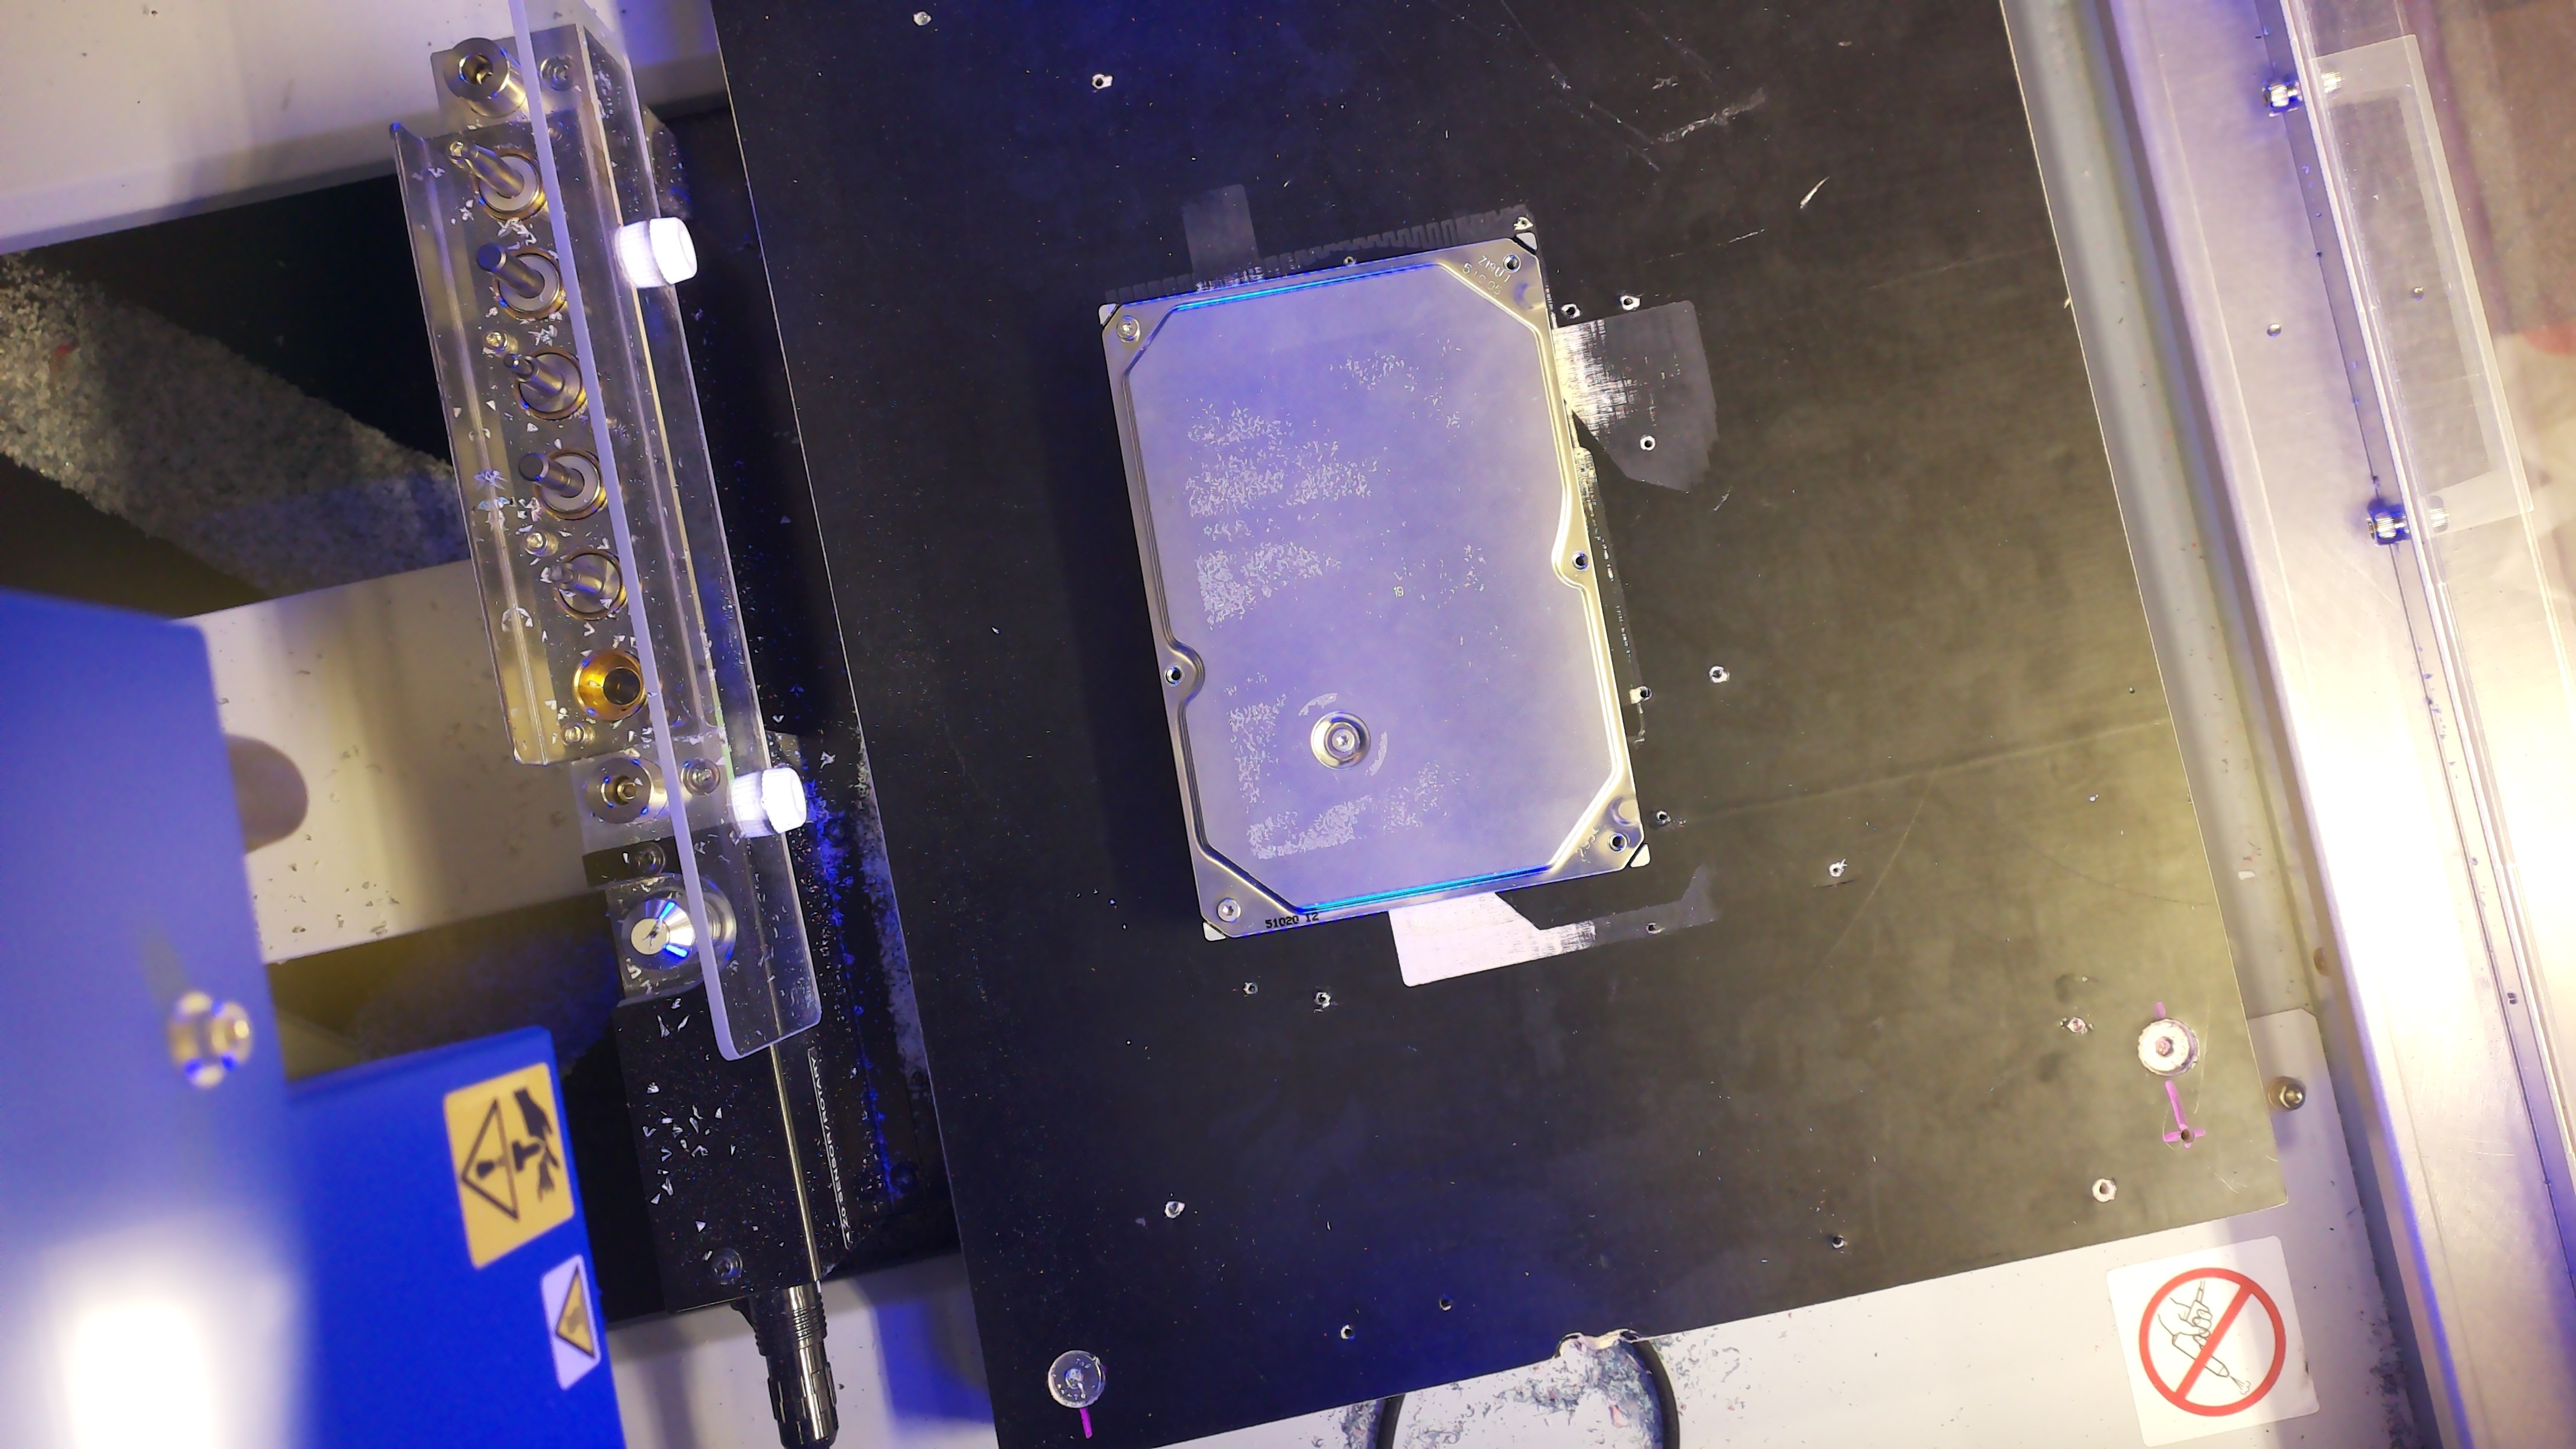Hole: (1571, 550, 1591, 570), (1502, 253, 1522, 272), (1608, 833, 1628, 853), (1164, 667, 1182, 685)
Screw: (1116, 315, 1141, 341), (1217, 897, 1240, 922), (1330, 729, 1355, 752)
